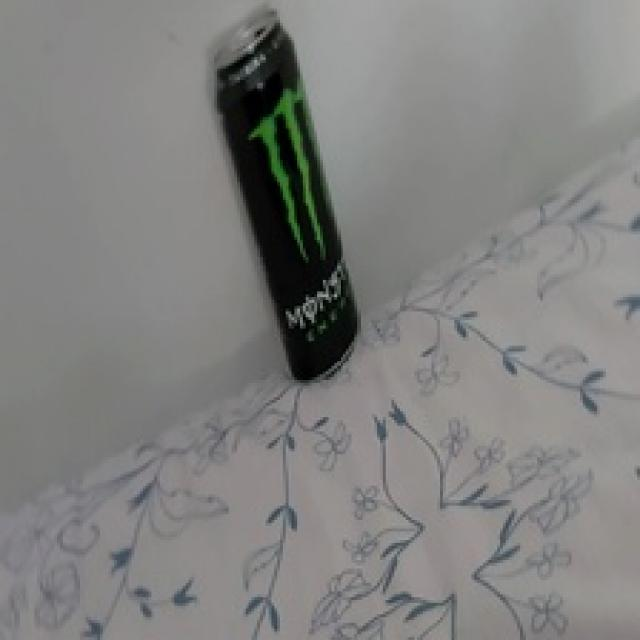recyclable: (206, 5, 365, 388)
